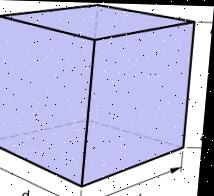cube: (0, 2, 197, 188)
